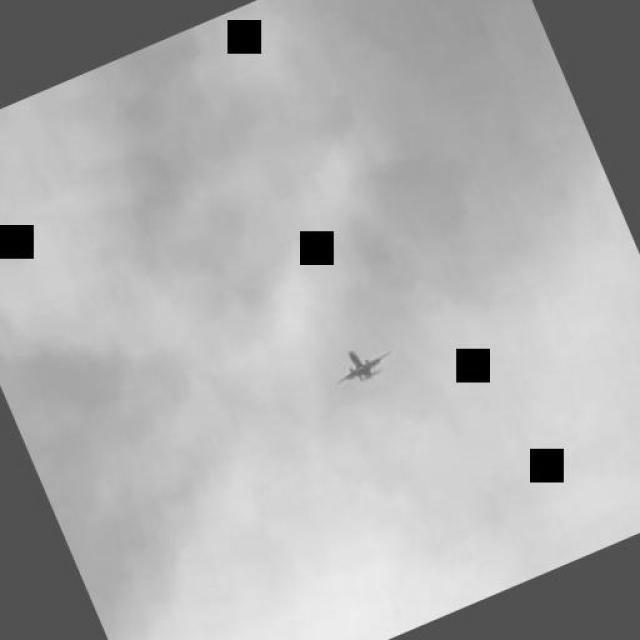aeroplane: (332, 342, 395, 390)
